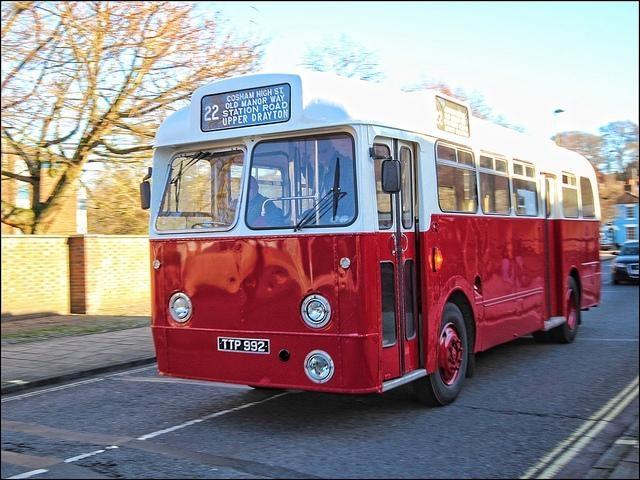bus: (147, 72, 603, 399)
car: (610, 242, 638, 284)
